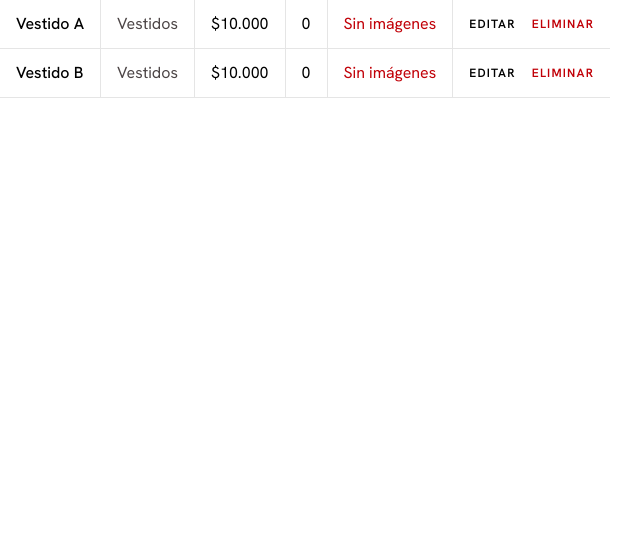
ProductTableBody › allows editing again after Cancelar closes the open row
Click the button "Editar" in the row of "Vestido A".
click(493, 24)  # box [469, 16, 516, 32]
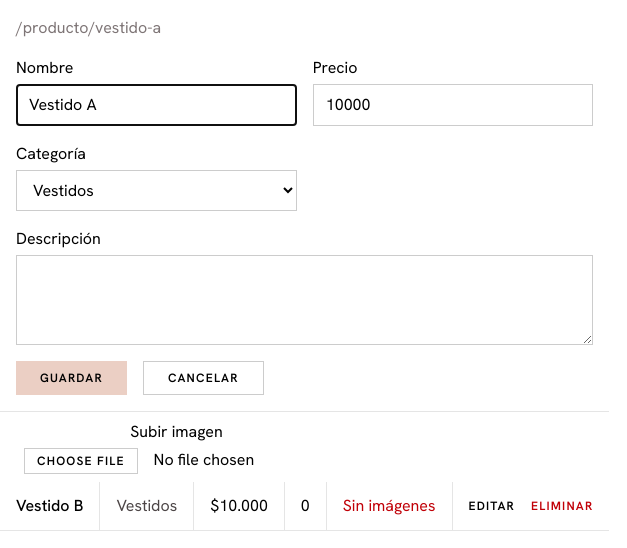
Click the button "Cancelar".
click(203, 378)  # box [143, 361, 264, 395]
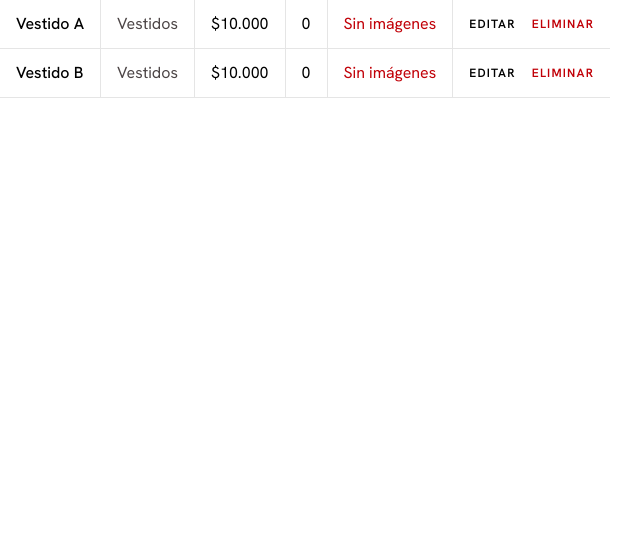
Expected: the label labelled "Nombre" is gone
Expected: the number of buttons "Editar" is 2, [469, 16, 516, 32]; [469, 65, 516, 81]
